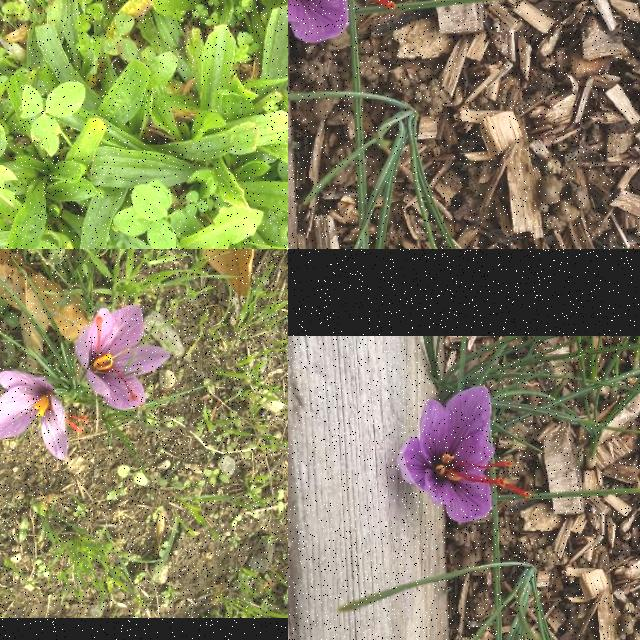flower: (394, 386, 532, 526), (75, 306, 171, 410), (0, 371, 89, 461)
